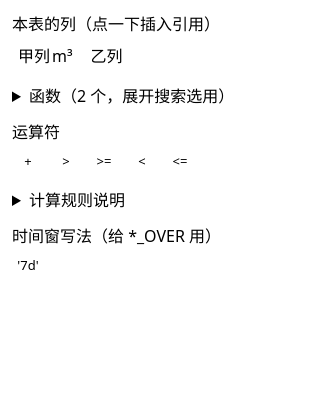
Test case: 函数 › ⚠ 目录里有几个就出几个，名字一个都不写死
The image size is (332, 412).
Click the heading "函数（2 个，展开搜索选用）" at [132, 96], box [29,85,234,107]
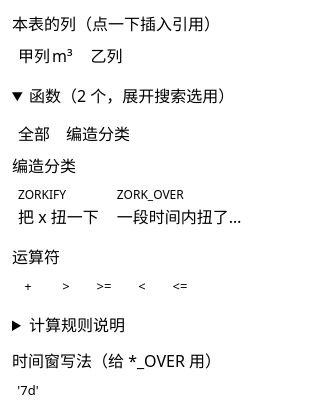
Now the text "ZORKIFY" is shown, box [18,186,66,204]
Now the text "ZORK_OVER" is shown, box [117,186,184,204]
